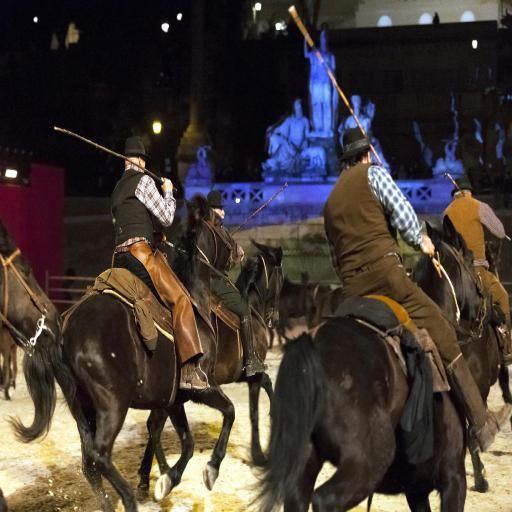horse: (232, 214, 495, 512), (4, 192, 242, 512), (136, 236, 285, 500), (0, 224, 64, 512), (454, 238, 512, 492), (270, 279, 331, 344)
